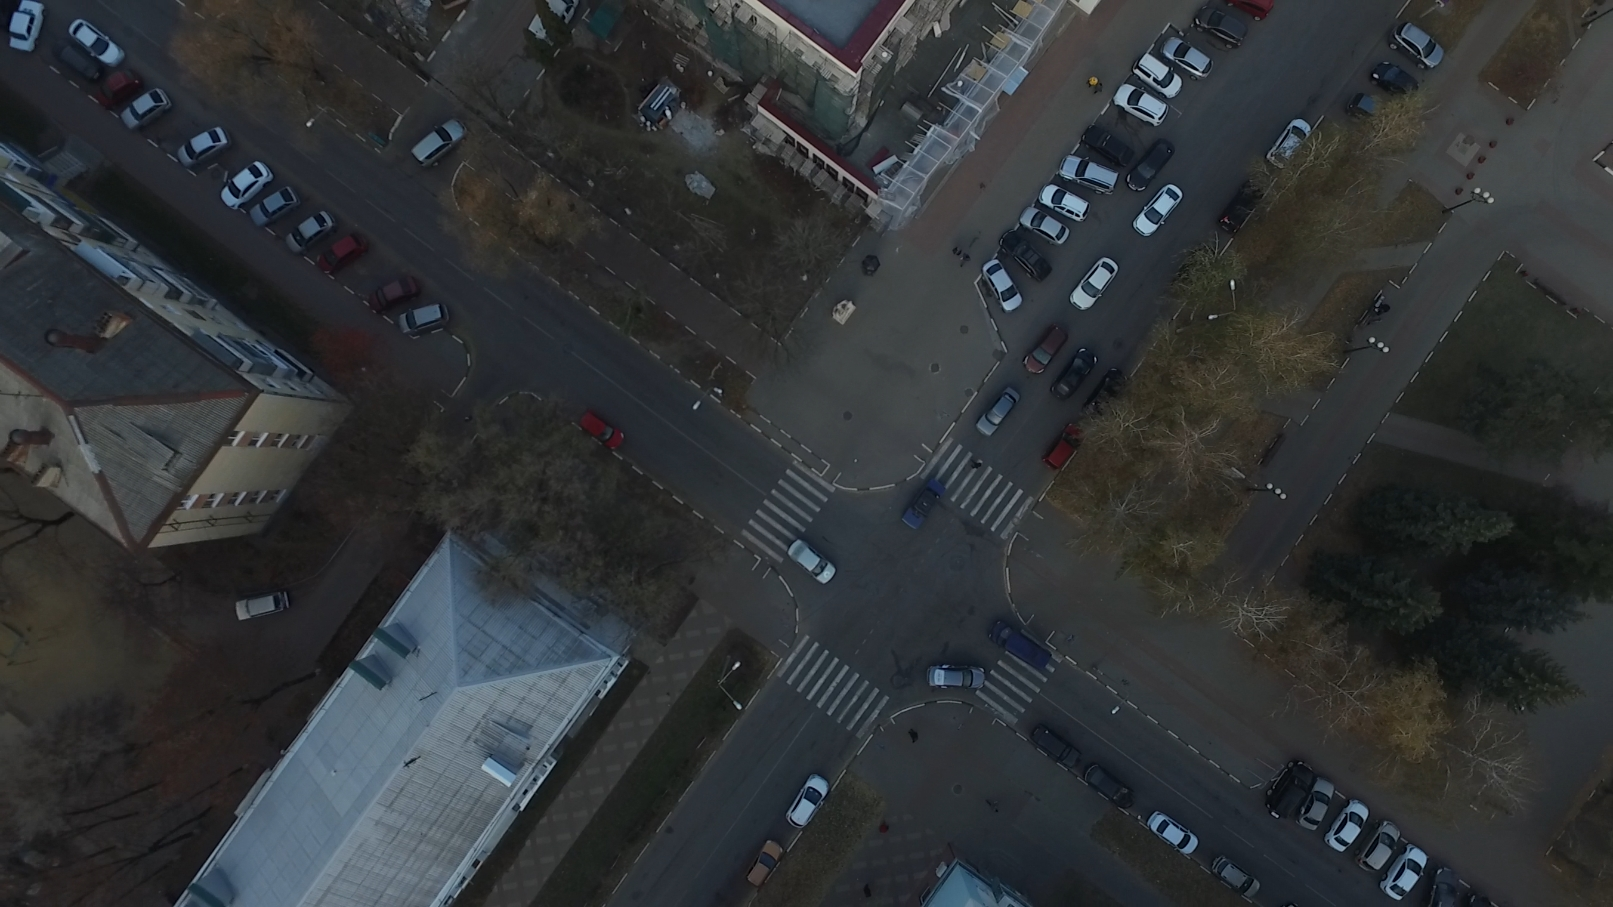car: (989, 617, 1052, 671), (405, 114, 468, 168), (997, 224, 1054, 282), (65, 17, 129, 69), (1268, 755, 1316, 824), (1379, 836, 1427, 903), (1216, 171, 1264, 236), (1350, 815, 1403, 874), (1018, 318, 1070, 377), (1065, 256, 1118, 312), (1388, 21, 1445, 73), (1128, 185, 1181, 239), (1124, 136, 1174, 193), (1112, 79, 1169, 128), (1045, 346, 1097, 399), (217, 161, 274, 209), (784, 767, 828, 831), (1202, 851, 1260, 897), (1325, 800, 1371, 857), (787, 536, 838, 588), (1193, 6, 1249, 53), (1264, 112, 1309, 169), (896, 480, 946, 532), (1145, 806, 1200, 854), (1160, 37, 1215, 83), (173, 122, 230, 166), (1085, 761, 1136, 810), (246, 184, 299, 230), (312, 233, 371, 275), (1078, 123, 1133, 167), (1059, 153, 1119, 194), (1032, 720, 1082, 769), (975, 386, 1020, 439), (982, 260, 1026, 313), (1294, 775, 1334, 833), (6, 1, 48, 55), (284, 210, 333, 256), (1036, 182, 1092, 221), (364, 272, 421, 312), (1130, 55, 1183, 97), (92, 68, 145, 110), (578, 408, 629, 451), (1368, 59, 1418, 101), (1045, 418, 1083, 471), (395, 297, 449, 336), (121, 87, 168, 131), (1019, 204, 1070, 244), (1083, 365, 1127, 412), (746, 841, 785, 888), (233, 591, 292, 621), (1344, 90, 1386, 127), (929, 666, 986, 691), (1428, 863, 1462, 904)
